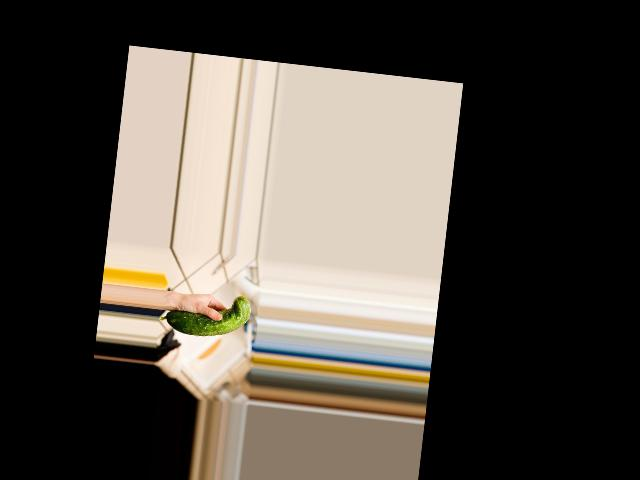cucumber: (158, 287, 252, 342)
